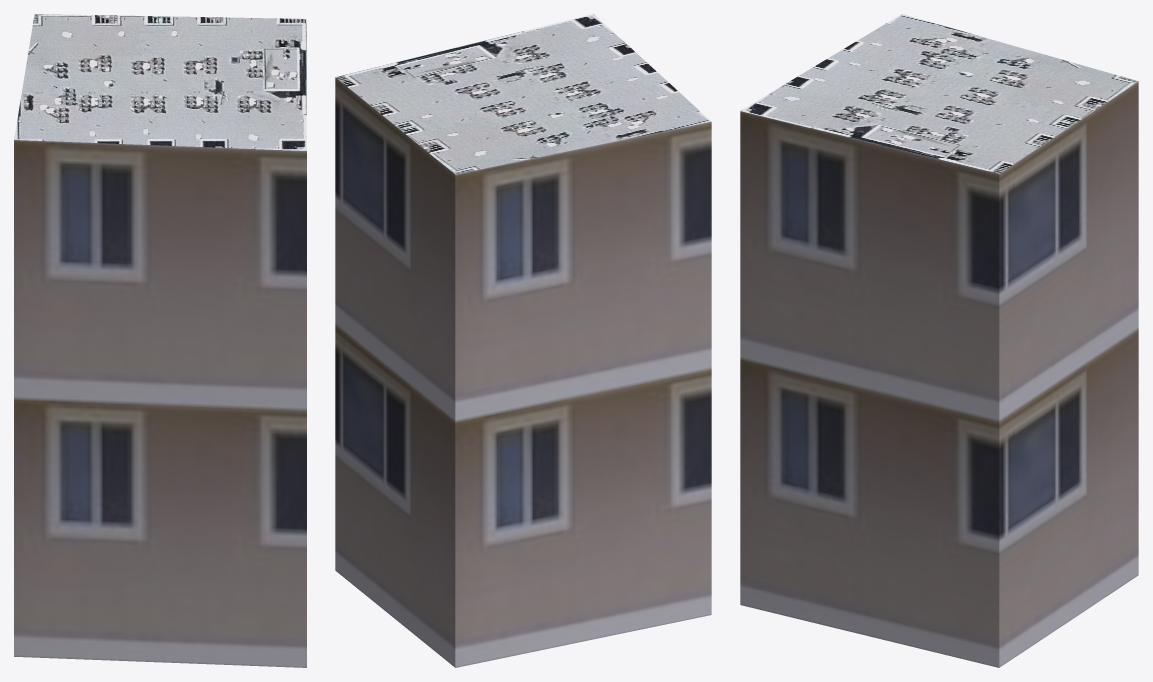
Rendered from ResTex__222.fbx.
The picture shows the model from 3 angles, left to right: view 1: azimuth 30°, elevation 25°; view 2: azimuth 150°, elevation 25°; view 3: azimuth 270°, elevation 25°; orthographic projection. The views are drawn at different scales.
Parts seen in each view (by area): view 1: CityEngineMaterial_21_m, CityEngineMaterial_4_m; view 2: CityEngineMaterial_21_m, CityEngineMaterial_4_m; view 3: CityEngineMaterial_21_m, CityEngineMaterial_4_m.
Part boxes in pixels (x1=…): CityEngineMaterial_21_m: x1=14, y1=140, x2=306, y2=667; CityEngineMaterial_4_m: x1=14, y1=14, x2=306, y2=150; CityEngineMaterial_21_m: x1=335, y1=77, x2=711, y2=667; CityEngineMaterial_4_m: x1=335, y1=14, x2=710, y2=174; CityEngineMaterial_21_m: x1=740, y1=81, x2=1138, y2=667; CityEngineMaterial_4_m: x1=741, y1=14, x2=1138, y2=173.
Size of the model in its own units: 4.17 by 6 by 4.39.
2 materials, 2 textured.
